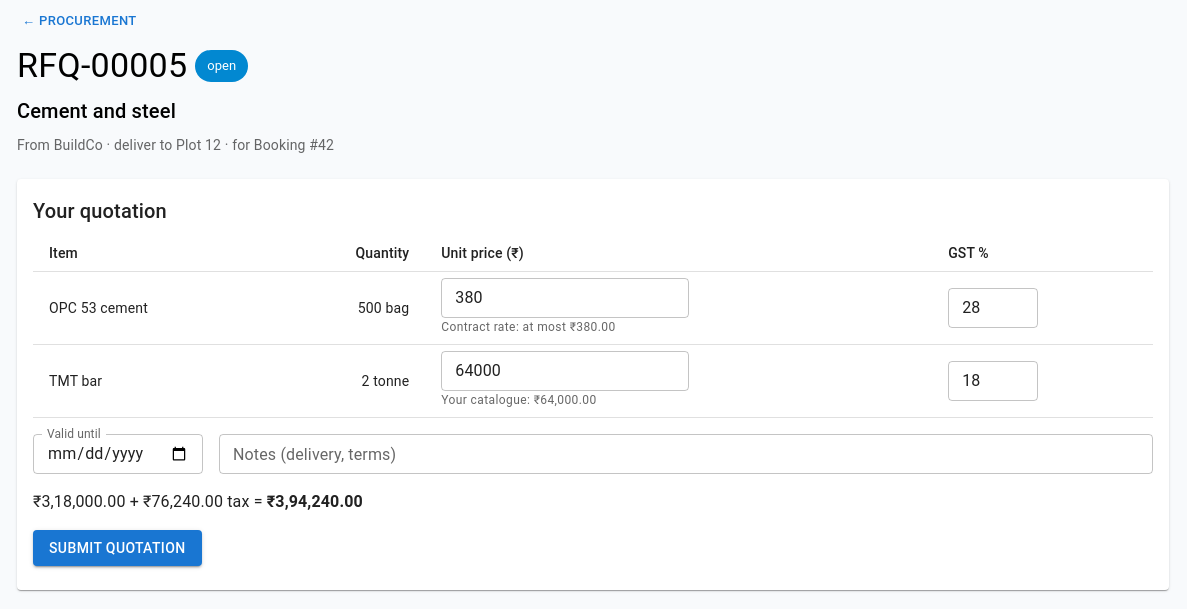
Test: RfqDetailPage › starts a supplier from its contract rate, and warns above it
Expected: the number field named "GST for OPC 53 cement" holds "28", [948,288,1038,328]
Expected: the number field named "Unit price for TMT bar" holds "64000", [441,351,689,391]
Replace the text in the number field named "Unit price for OPC 53 cement" with "381": (565, 298) [441,278,689,318]
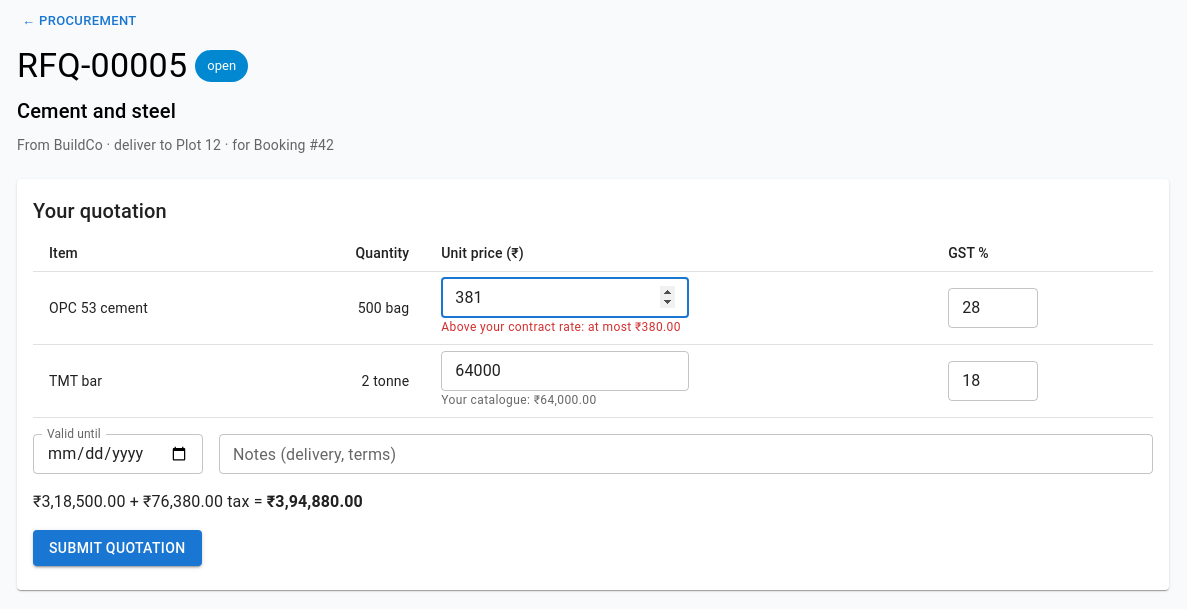
Expected: the text with test id "price-hint-11" reads "Above your contract rate: at most ₹380.00", [441,320,681,334]
